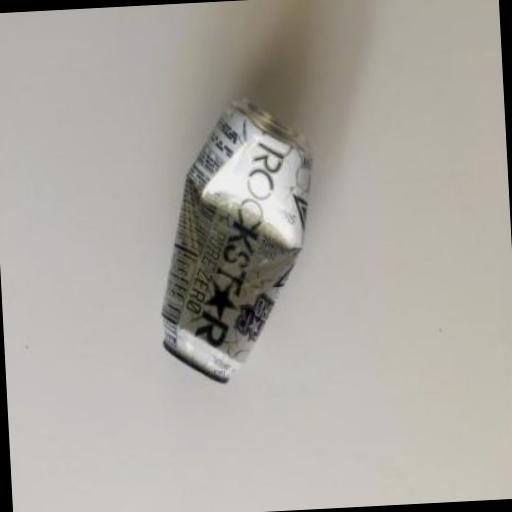metal: (146, 93, 322, 385)
